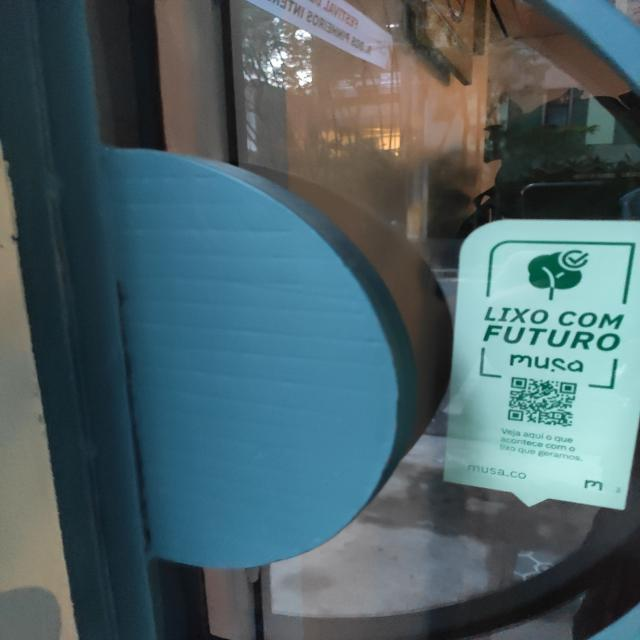qrcode: (509, 378, 578, 428)
